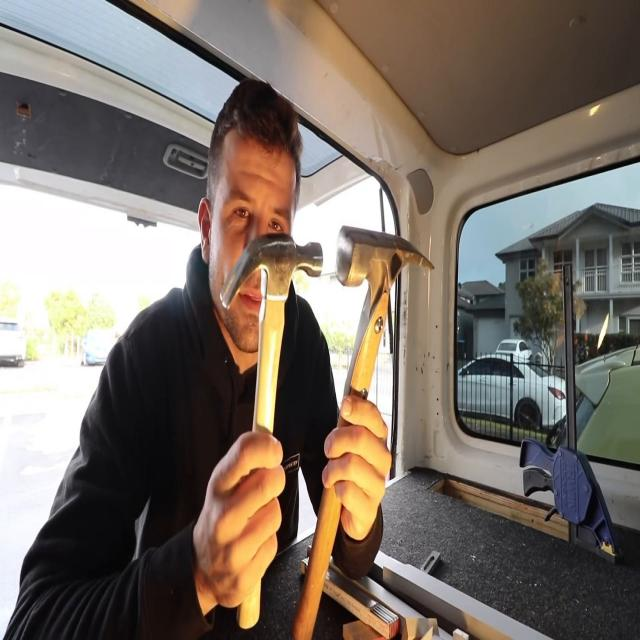hammer: (290, 226, 434, 640), (221, 233, 324, 626)
